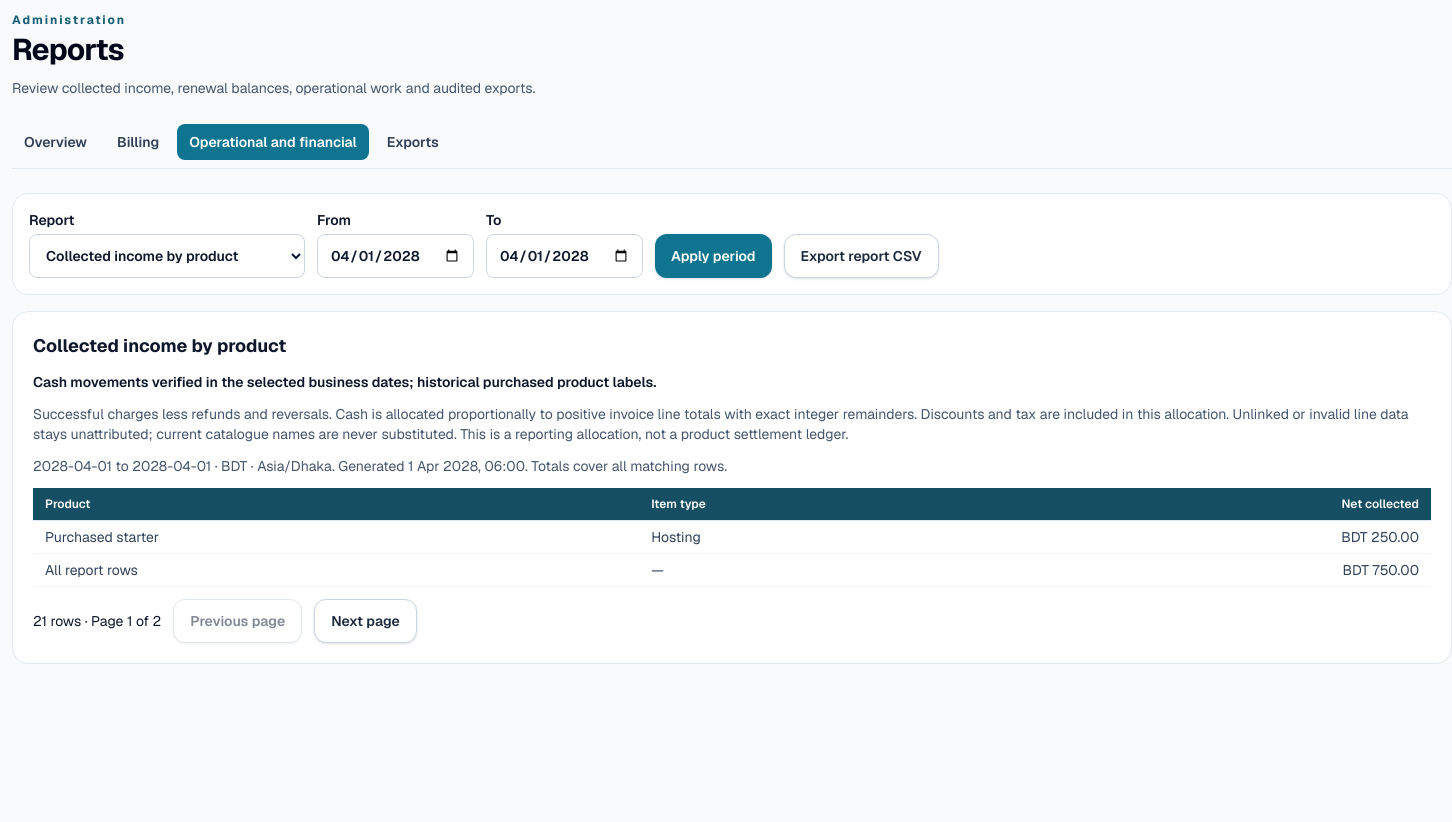
Test case: exposes seven labelled reports and whole-result totals, with forecasts clearly separate
expect the text "Purchased starter" is shown: met, box top-left (33, 521), bottom-right (639, 554)
expect the link "Operational and financial" is shown: met, box top-left (177, 124), bottom-right (369, 160)
Select "Recurring charges due" in the dropdown labelled "Report". click: (167,256)
box: top-left (29, 234), bottom-right (305, 278)
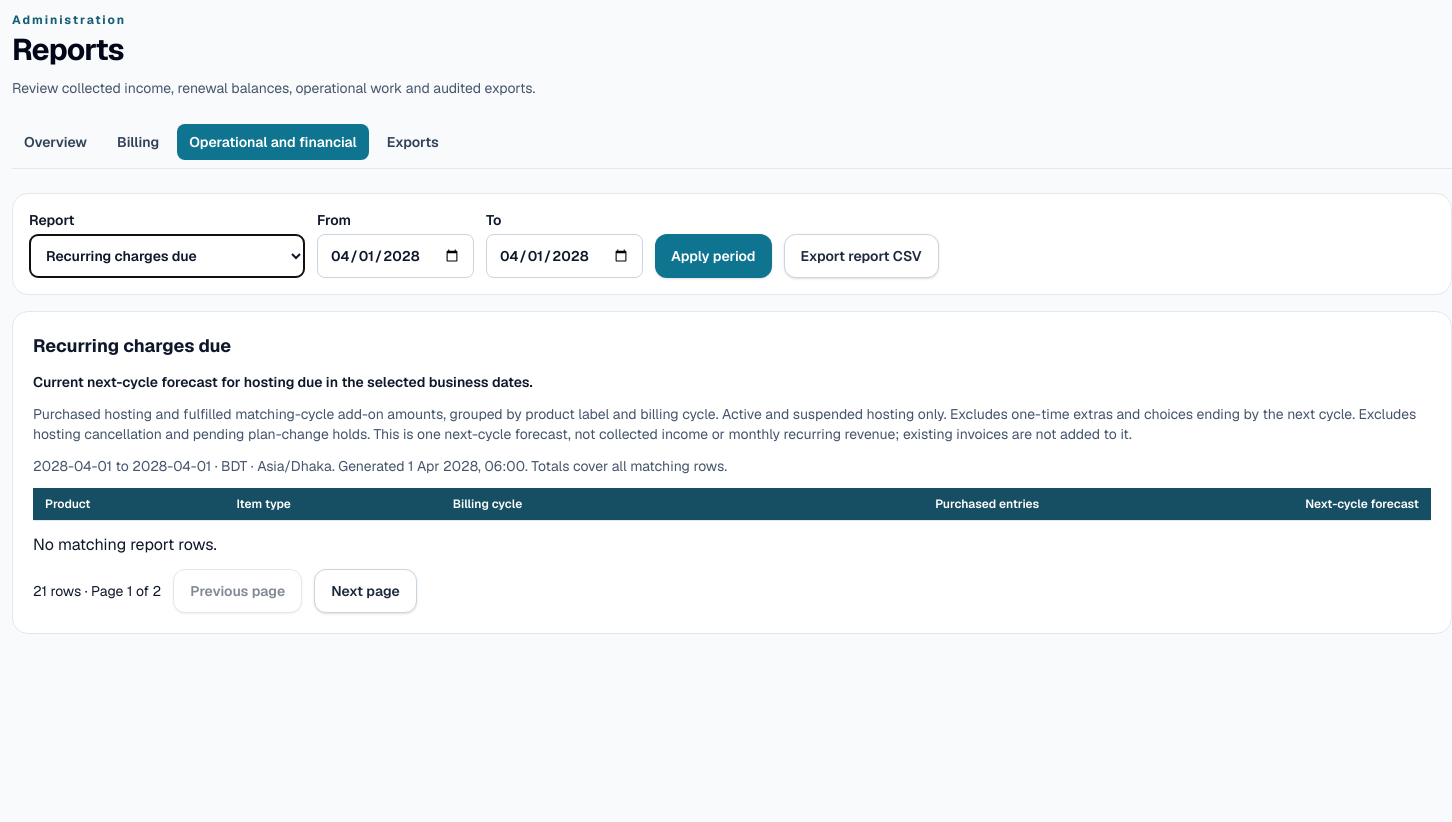
expect the text "No matching report rows." is shown: met, box top-left (33, 534), bottom-right (217, 555)
expect the text "Purchased hosting and fulfilled matching-cycle add-on amounts, grouped by product label and billing cycle. Active and su" is shown: met, box top-left (33, 405), bottom-right (1416, 443)
expect the text "Purchased starter" is gone: met
